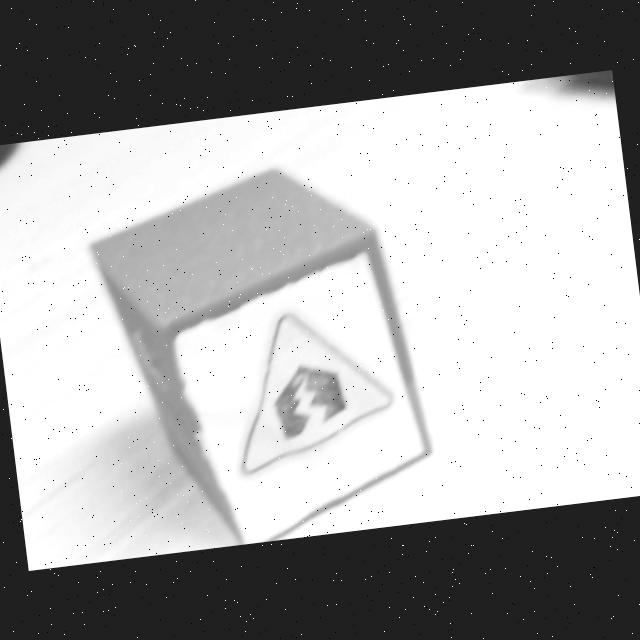Earthquake: (222, 302, 401, 477), (240, 313, 394, 476)
